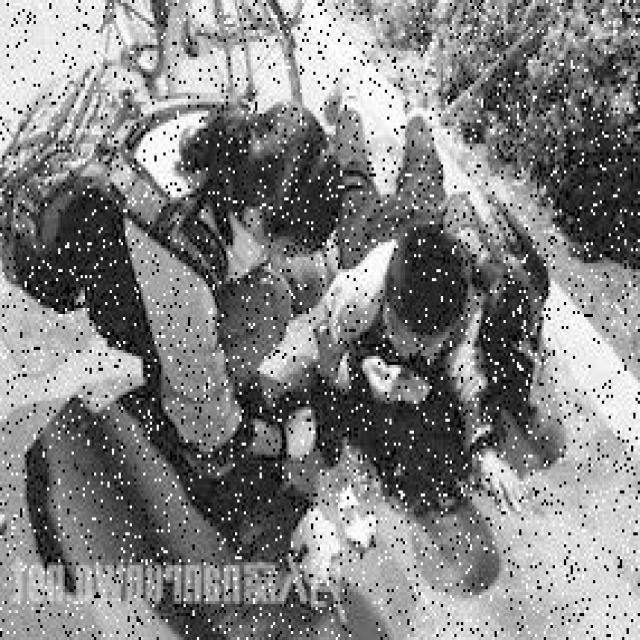fall: (327, 50, 510, 518)
